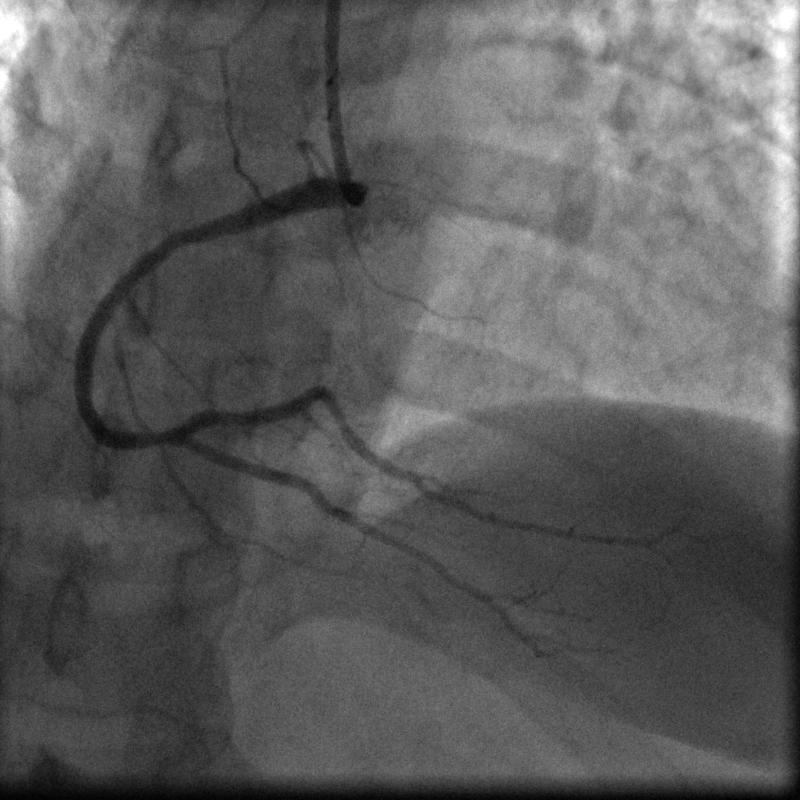Stenosis: (140, 426, 171, 452)
